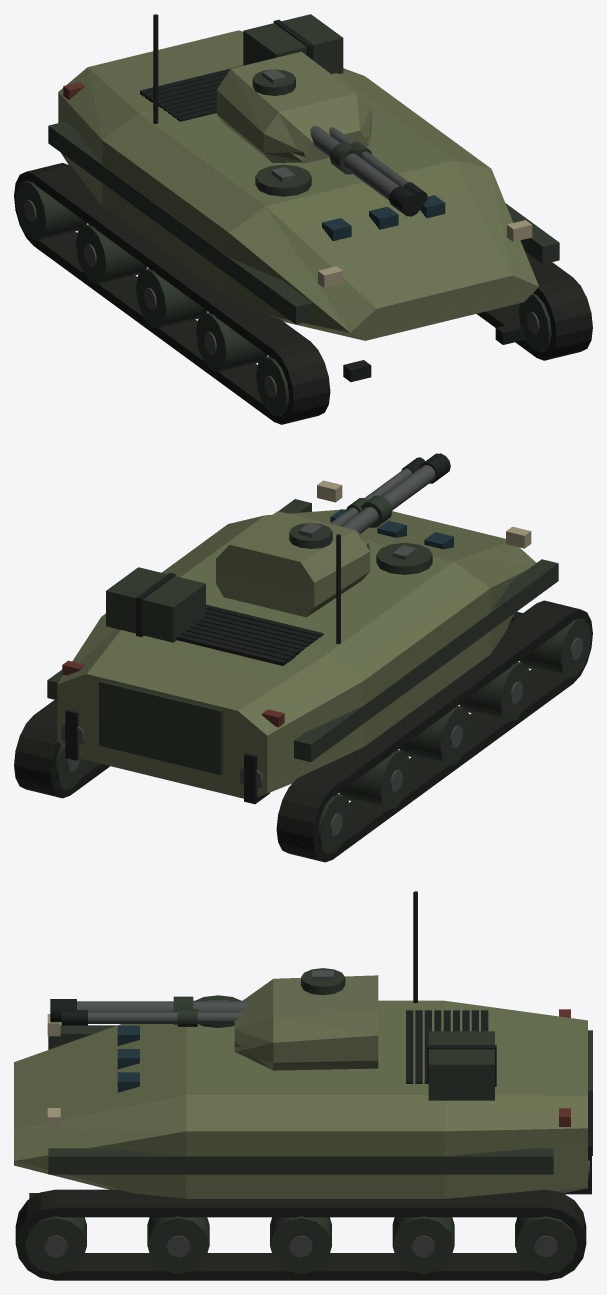
File: ifv-lod.glb
The picture shows the model from 3 angles, top to bottom: view 1: azimuth 30°, elevation 25°; view 2: azimuth 150°, elevation 25°; view 3: azimuth 270°, elevation 25°; orthographic projection.
Parts seen in each view (by area): view 1: equipment (×4); view 2: equipment (×4); view 3: equipment (×4).
Part boxes in pixels (box(x1,y1,x2,y2)): equipment (×4): box(14, 14, 592, 424); equipment (×4): box(14, 453, 592, 862); equipment (×4): box(14, 891, 592, 1280).
Size of the model in its own units: 3.29 by 2.68 by 5.24.
